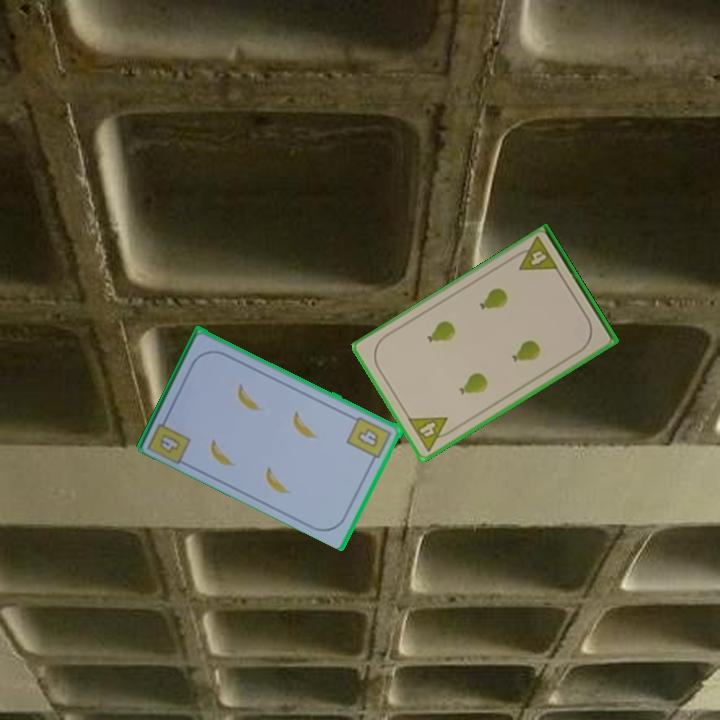4b: (145, 411, 194, 466), (344, 413, 395, 465)
4p: (404, 413, 457, 454), (509, 234, 562, 274)
